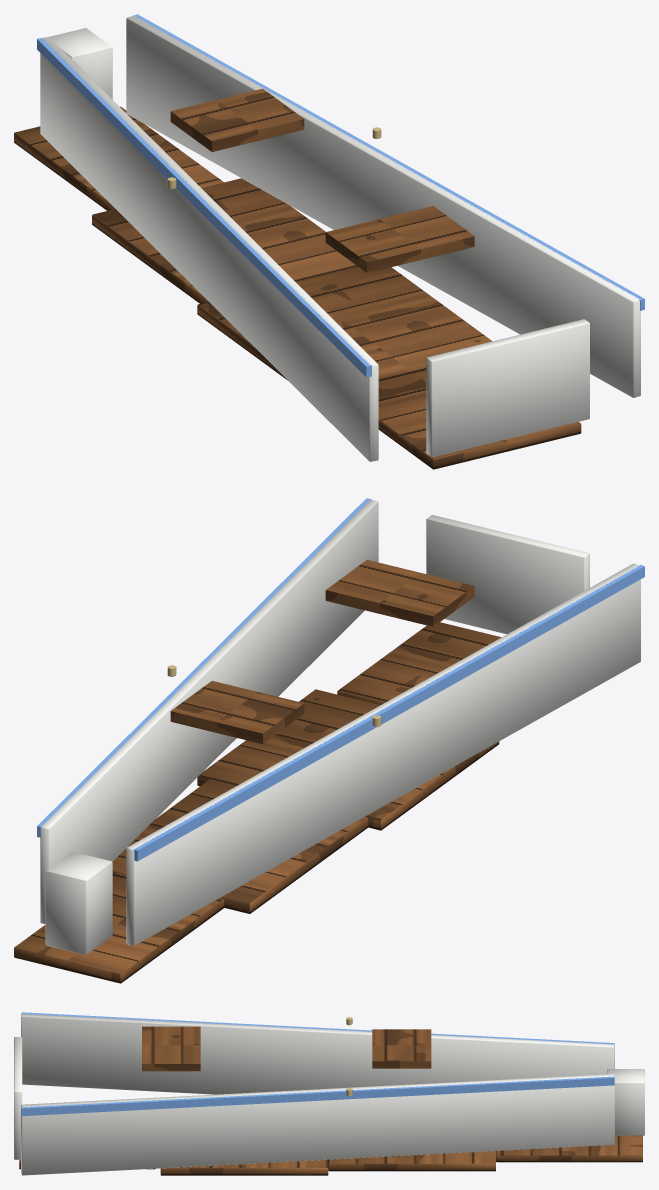
File: Boat.fbx
3 views of the same model, one above another, from view 1: azimuth 30°, elevation 25°; view 2: azimuth 150°, elevation 25°; view 3: azimuth 270°, elevation 25° (orthographic). The views are drawn at different scales.
Parts seen in each view (by area): view 1: LOD0; view 2: LOD0; view 3: LOD0.
Boxes of the visible parts, x1,y1,x2,y2 form: LOD0: (14,14,644,469); LOD0: (14,498,644,983); LOD0: (14,1012,644,1175).
Size of what is drawn, in the model's own units: 109 by 52 by 301.
